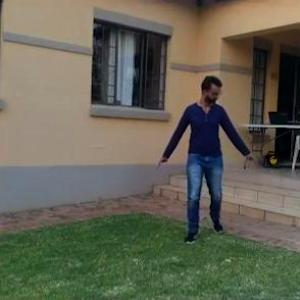land: (142, 61, 260, 255)
